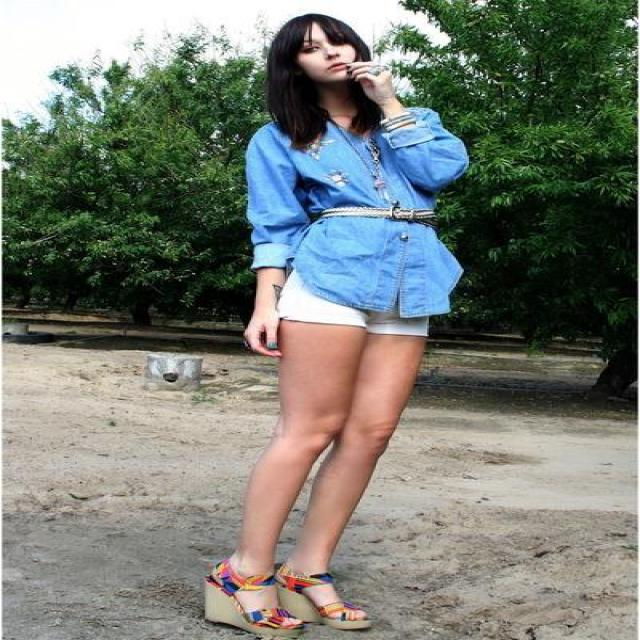shirt: (245, 115, 467, 317)
shoe: (204, 560, 346, 639)
shorts: (288, 294, 432, 344)
